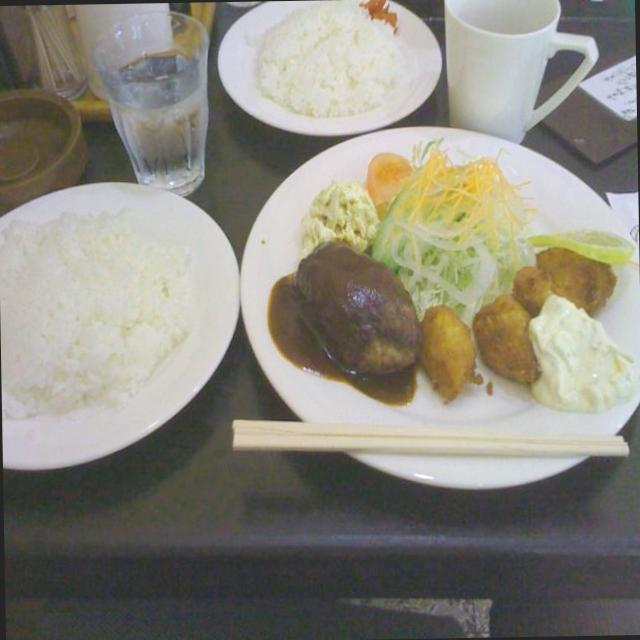Rice: (0, 207, 206, 434), (210, 0, 443, 139)
